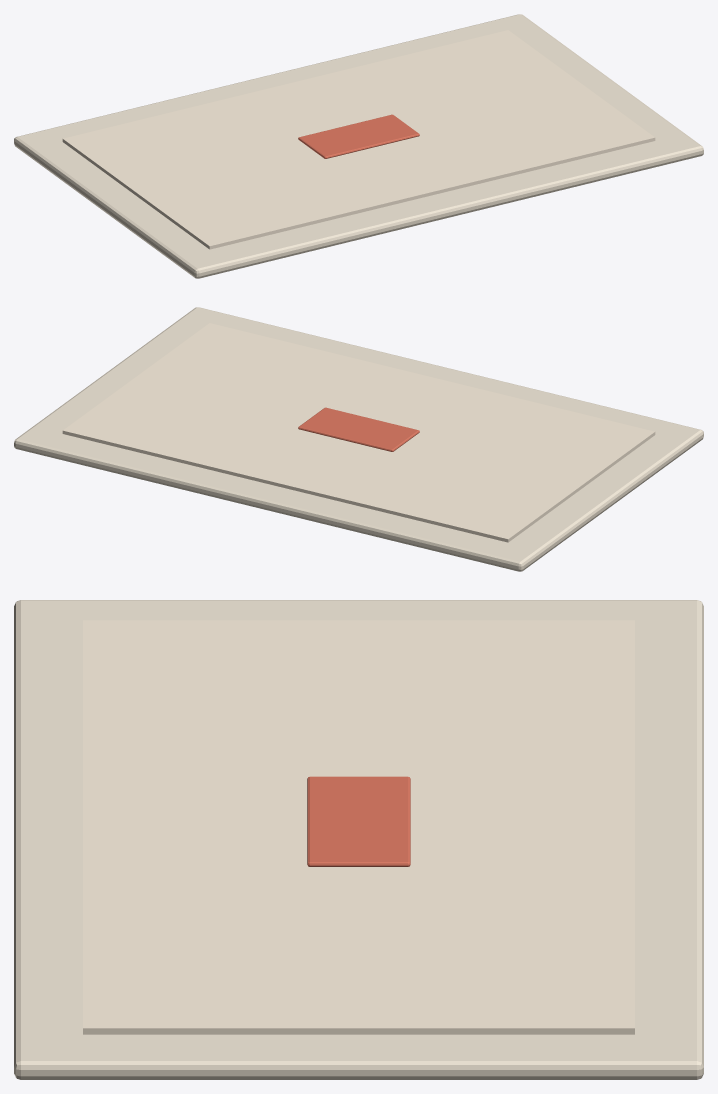
The model's file is flour_sack_rug.glb.
3 renders of one model, top to bottom at view 1: azimuth 30°, elevation 25°; view 2: azimuth 150°, elevation 25°; view 3: azimuth 270°, elevation 25°, orthographic. The views are drawn at different scales.
Visible parts, largest first — view 1: flour_sack_rug; view 2: flour_sack_rug; view 3: flour_sack_rug.
Part boxes in pixels (<box>): flour_sack_rug: <box>14,14,703,278</box>; flour_sack_rug: <box>14,307,703,571</box>; flour_sack_rug: <box>14,600,703,1079</box>.
Size of the model in its own units: 1.6 by 0.048 by 1.
